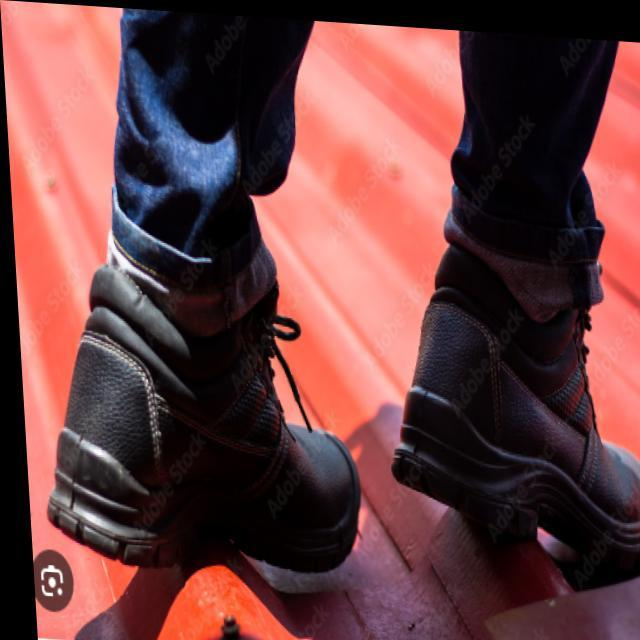boots: (23, 191, 640, 624)
